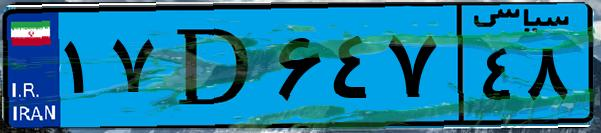1: (57, 26, 110, 100)
4: (330, 28, 385, 110), (475, 38, 525, 113)
6: (270, 28, 330, 110)
7: (385, 28, 445, 110), (110, 28, 158, 98)
8: (525, 38, 570, 115)
D: (158, 12, 270, 120)
